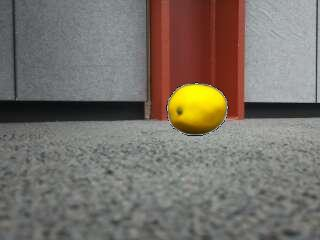lemon: (169, 85, 227, 135)
